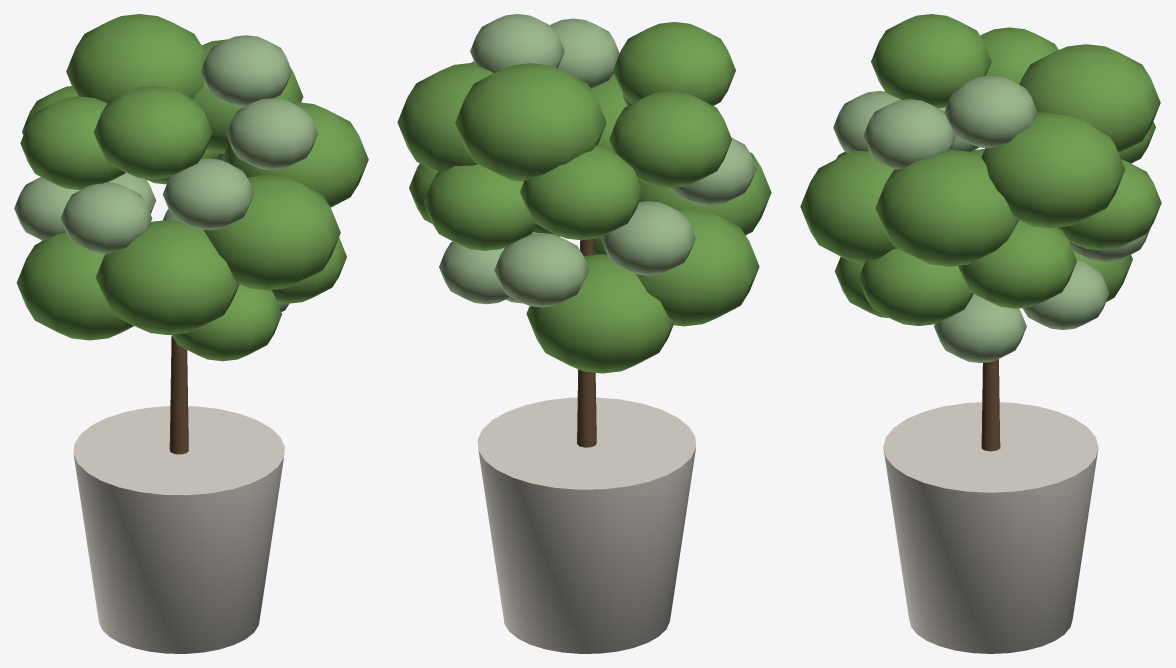
File: plante-pothos-ikea.glb
3 renders of one model, left to right at view 1: azimuth 30°, elevation 25°; view 2: azimuth 150°, elevation 25°; view 3: azimuth 270°, elevation 25°, orthographic. The views are drawn at different scales.
Parts seen in each view (by area): view 1: produit; view 2: produit; view 3: produit.
Boxes of the visible parts, <box> form: produit: <box>14,14,368,653</box>; produit: <box>397,14,771,653</box>; produit: <box>800,14,1161,653</box>.
Bounding box in the file's own units: 0.2912 × 0.498 × 0.2855.
